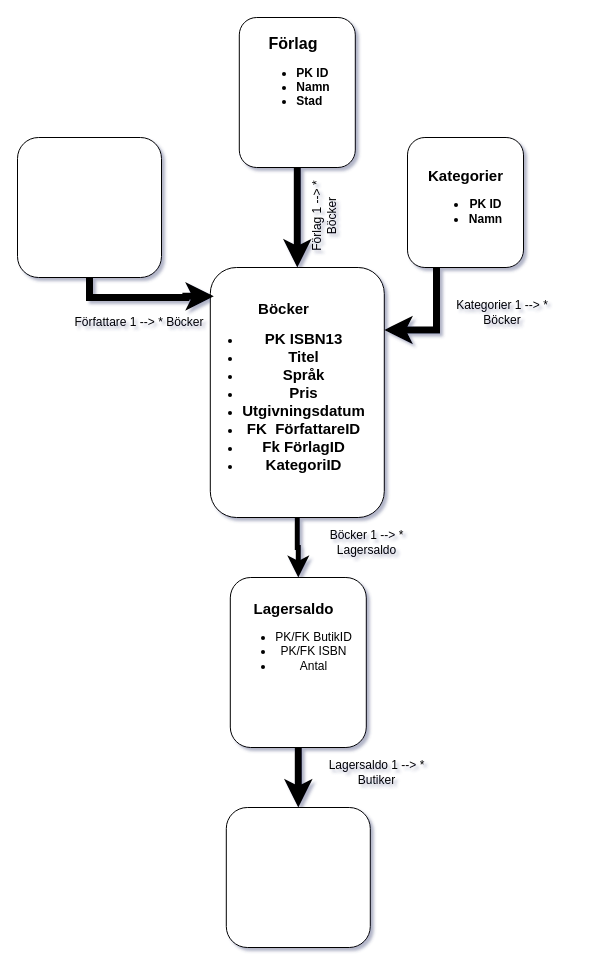
Some shapes in this 591 by 971 pixel diagram are drawn without their labels. The centre of each missing label's shape, as x and y in pixels:
"Butiker PK ID Butiksnamn Gatuadress Postnummer Stad" belongs at pixel 297 877.
"Författare PK ID Förnamn Efternamn Födelsedatum" belongs at pixel 89 207.
